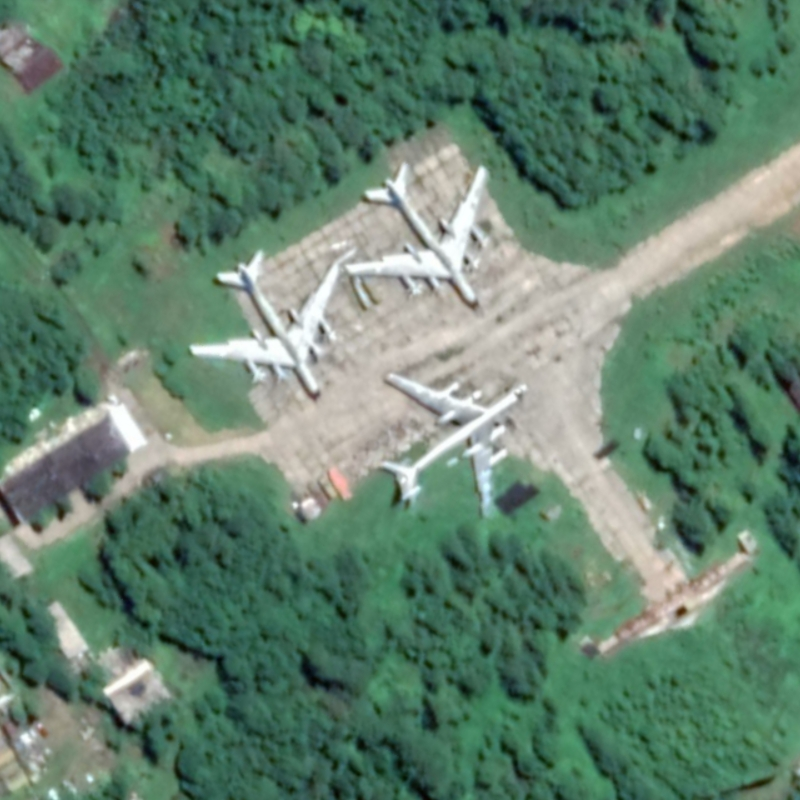A17: (184, 246, 344, 411), (339, 158, 499, 320), (370, 367, 529, 523)
